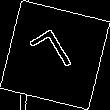L_SE: (29, 25, 81, 85)
